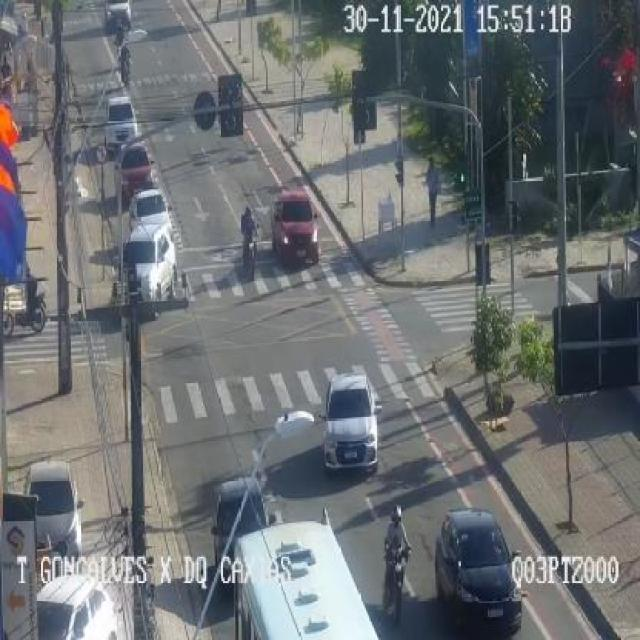bus: (234, 519, 378, 639)
car: (434, 509, 522, 629), (24, 462, 81, 570), (115, 224, 176, 318), (214, 476, 268, 578), (322, 374, 378, 471), (36, 574, 118, 640), (383, 503, 411, 622), (272, 190, 318, 262), (114, 142, 154, 198), (130, 188, 172, 234), (104, 96, 138, 149), (99, 0, 133, 31)
motorbike: (2, 262, 46, 336), (240, 203, 258, 280), (426, 156, 440, 227), (118, 38, 132, 90), (114, 22, 126, 68)
